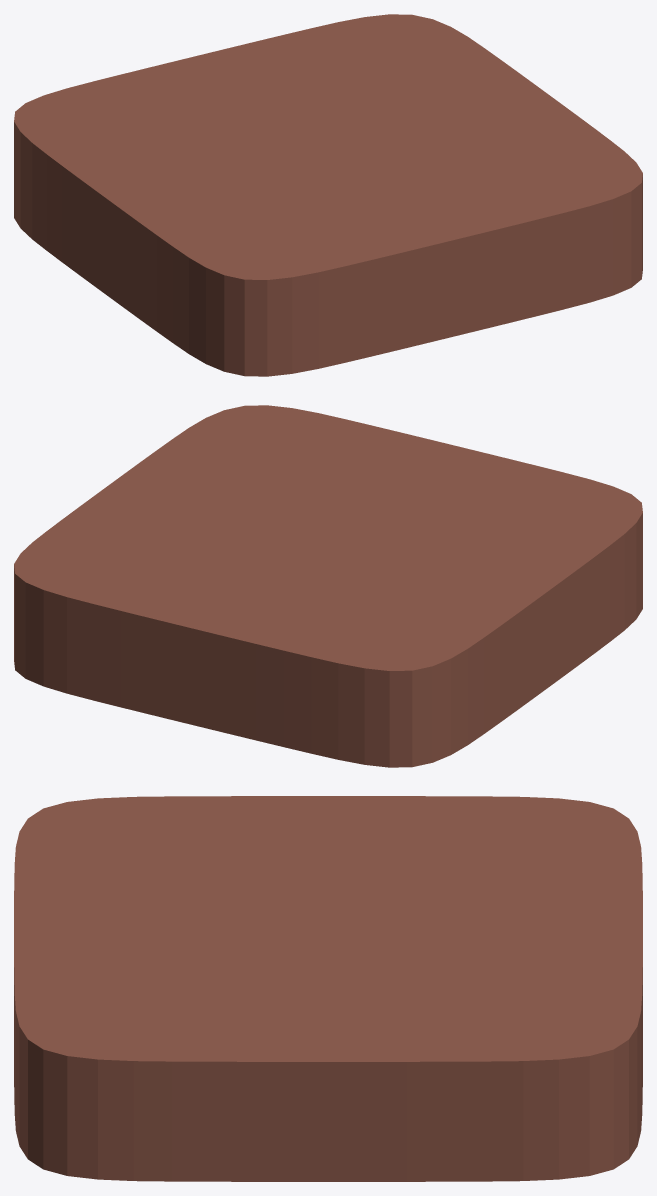
The model's file is tile_floor_1.glb.
3 renders of one model, top to bottom at view 1: azimuth 30°, elevation 25°; view 2: azimuth 150°, elevation 25°; view 3: azimuth 270°, elevation 25°, orthographic. The views are drawn at different scales.
Visible parts, largest first — view 1: obj_tile_blank_1; view 2: obj_tile_blank_1; view 3: obj_tile_blank_1.
Boxes of the visible parts, left/top/right/bottom form: obj_tile_blank_1: left=14, top=14, right=642, bottom=376; obj_tile_blank_1: left=14, top=405, right=642, bottom=767; obj_tile_blank_1: left=14, top=796, right=642, bottom=1181.
Bounding box in the file's own units: 0.95 × 0.2 × 0.95.
